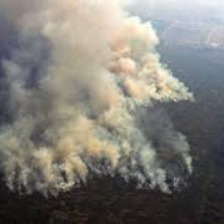incendio: (74, 73, 206, 150), (115, 134, 194, 213), (1, 138, 117, 185), (7, 144, 97, 198)
